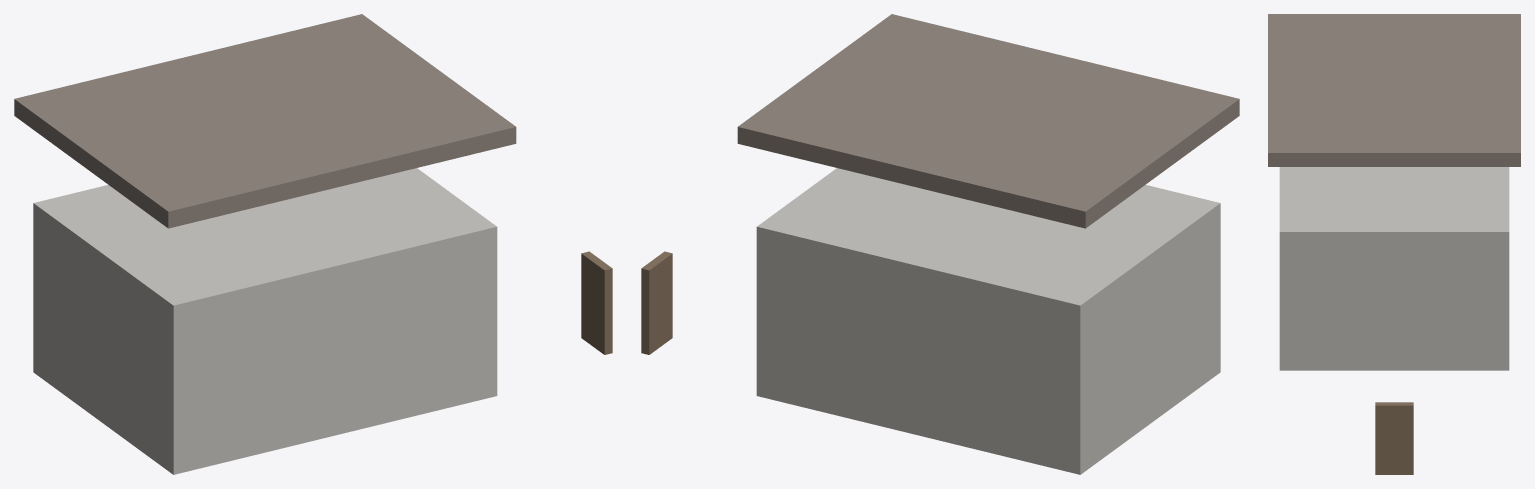
Rendered from building_store.glb.
The picture shows the model from 3 angles, left to right: view 1: azimuth 30°, elevation 25°; view 2: azimuth 150°, elevation 25°; view 3: azimuth 270°, elevation 25°; orthographic projection. The views are drawn at different scales.
Visible parts, largest first — view 1: building_store; view 2: building_store; view 3: building_store.
Part boxes in pixels (bbox=[...]): building_store: bbox=[14, 14, 612, 474]; building_store: bbox=[641, 14, 1239, 474]; building_store: bbox=[1268, 14, 1520, 474].
Size of the model in its own units: 6.3 by 3.7 by 3.3.
